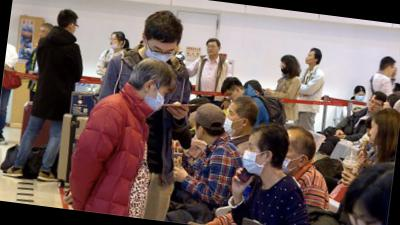mask_weared_incorrect: (107, 37, 122, 51)
with_mask: (239, 141, 268, 178), (143, 85, 169, 115), (221, 108, 241, 140), (144, 44, 177, 63), (279, 64, 291, 76), (355, 92, 367, 103)
without_mask: (368, 121, 382, 146), (368, 97, 385, 115), (226, 86, 242, 102), (206, 43, 218, 58), (383, 99, 396, 112), (305, 52, 314, 66), (38, 29, 47, 38)
